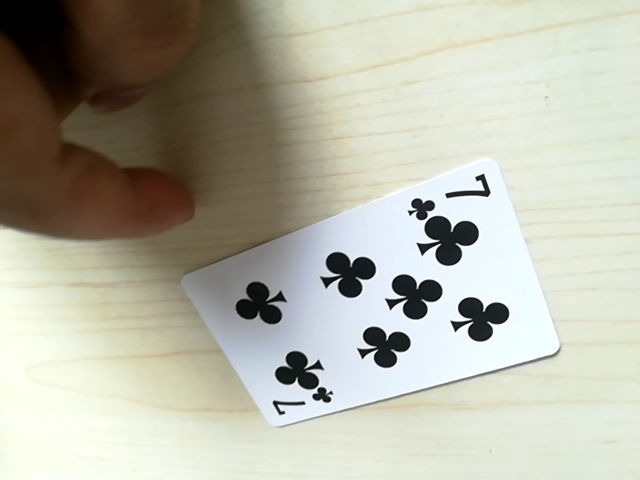mh 7: (408, 173, 494, 213), (260, 385, 337, 426)
